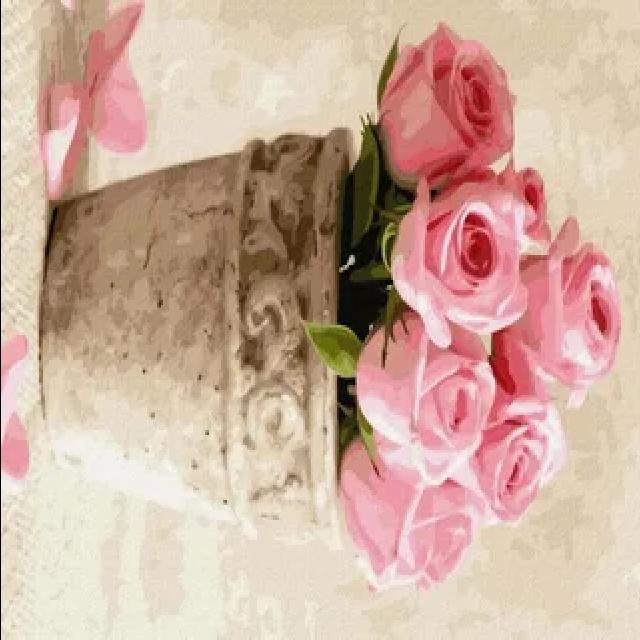rose: (367, 14, 531, 190), (331, 323, 507, 483)
